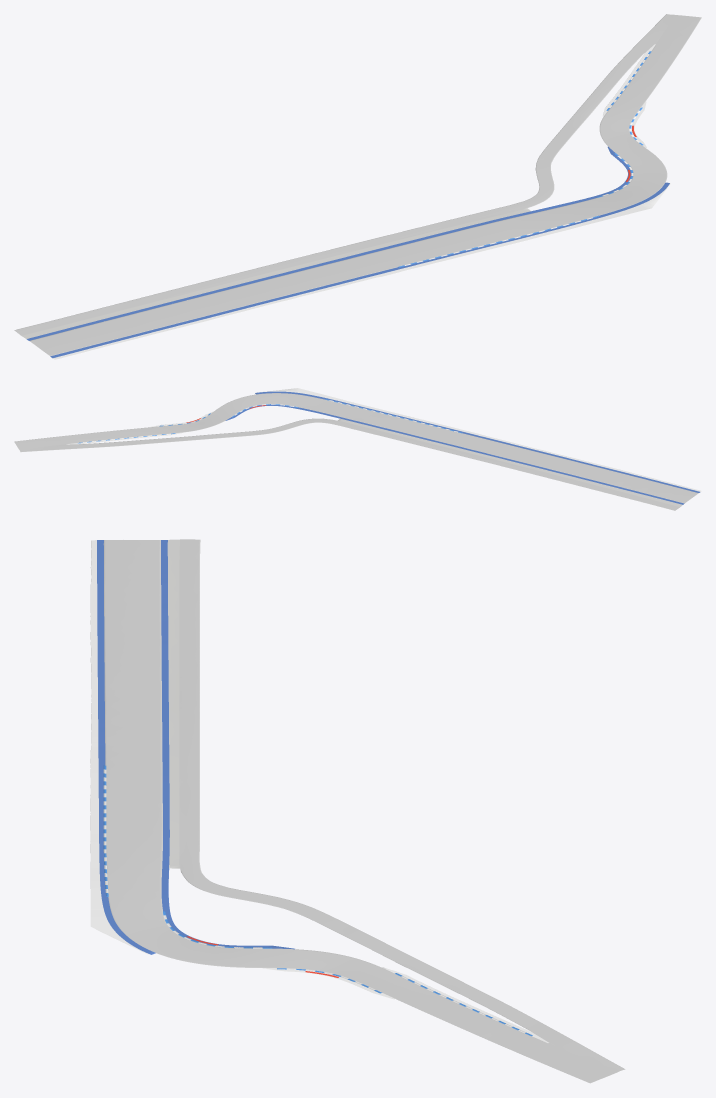
File: track_road_sector8.dae
3 views of the same model, one above another, from view 1: azimuth 30°, elevation 25°; view 2: azimuth 150°, elevation 25°; view 3: azimuth 270°, elevation 25° (orthographic). The views are drawn at different scales.
Parts seen in each view (by area): view 1: road_track_sector8_a6000; view 2: road_track_sector8_a6000; view 3: road_track_sector8_a6000.
Boxes of the visible parts, x1,y1,x2,y2 form: road_track_sector8_a6000: (14,14,701,359); road_track_sector8_a6000: (14,388,701,510); road_track_sector8_a6000: (90,539,625,1083).
Size of the model in its own units: 382 by 157 by 2.7.
